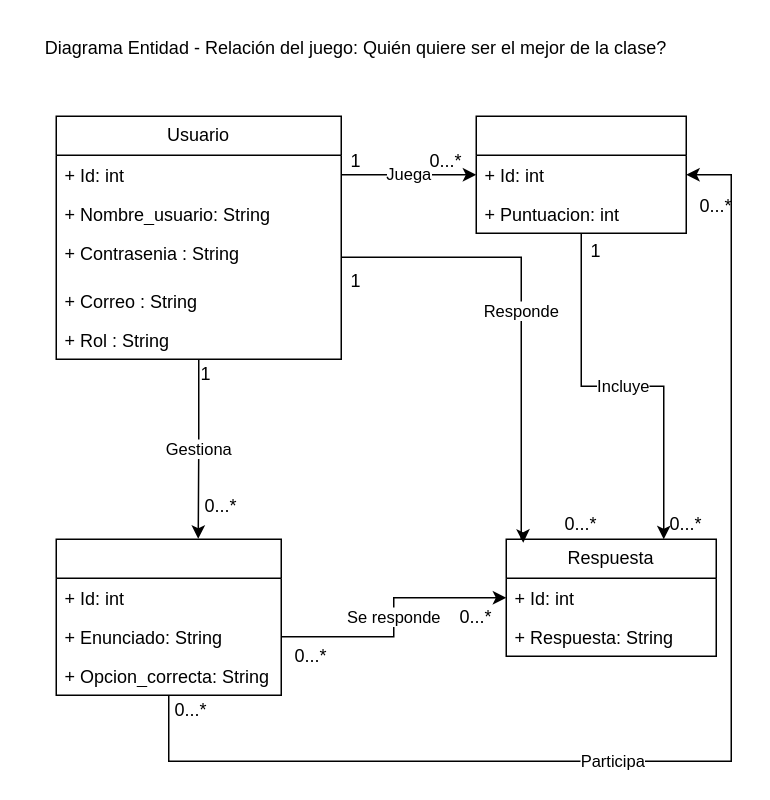
Image size: 770x800. Some labels were removed from this diagram. Here are the shapes that lost their labels. From the top down, the box of each, then its label:
(475, 115, 686, 233): Partida
(55, 538, 281, 695): Pregunta
